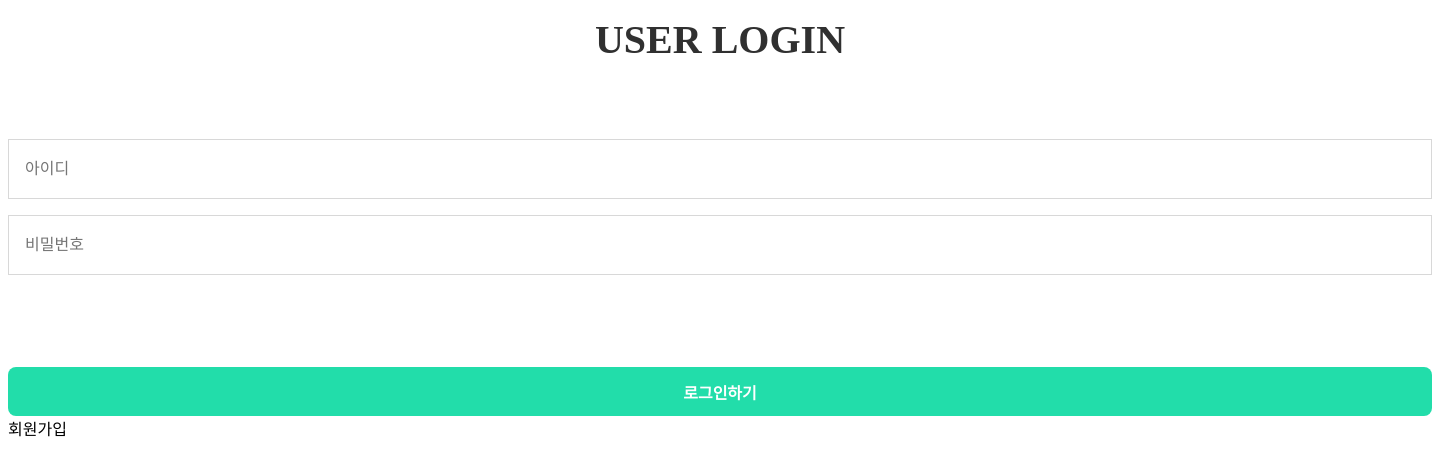
LoginForm › when password field is blank › show error message
Check: the heading "USER LOGIN" is shown, box [595,17,845,62]
Type "ashal1234" into the field with placeholder "아이디" at coordinates (720, 169), box [8,139,1432,199]
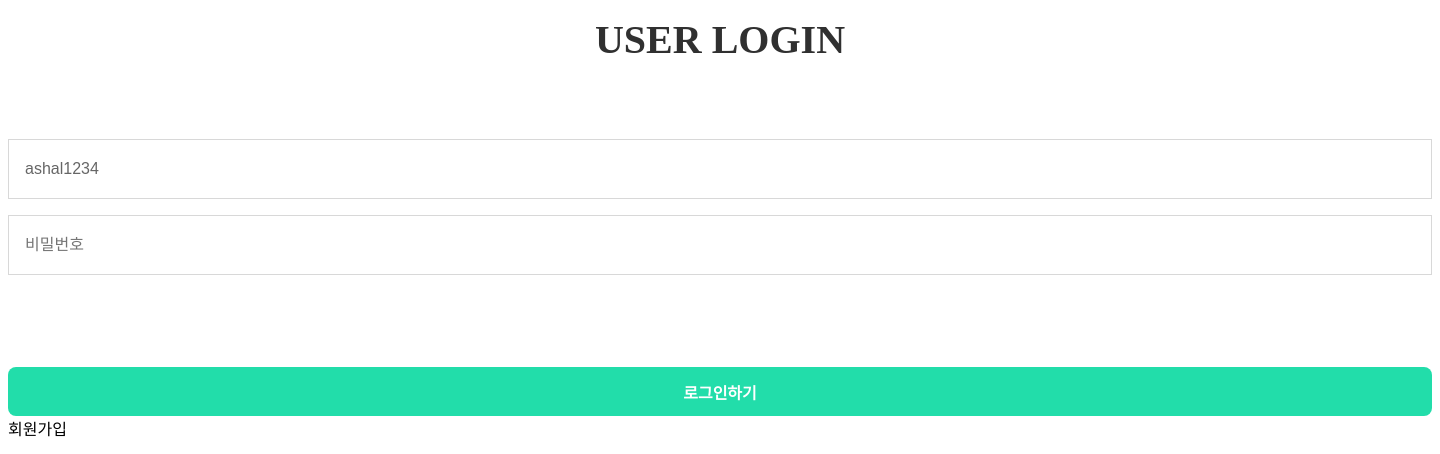
Click the button "로그인하기" at coordinates (720, 392), box [8,367,1432,416]
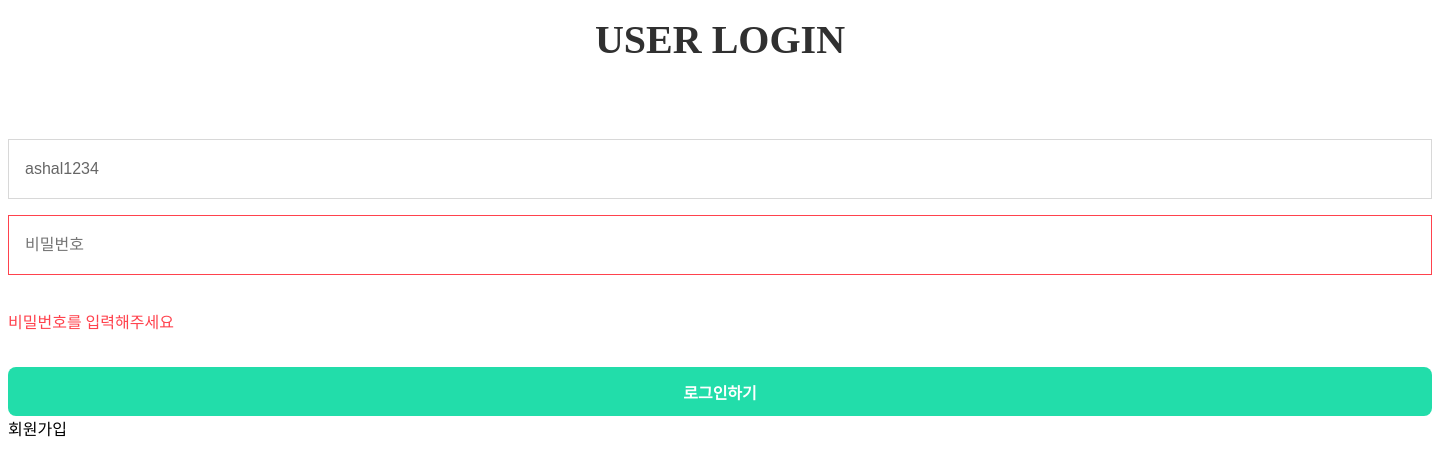
Check: the text "비밀번호를 입력해주세요" is shown, box [8,314,174,331]
